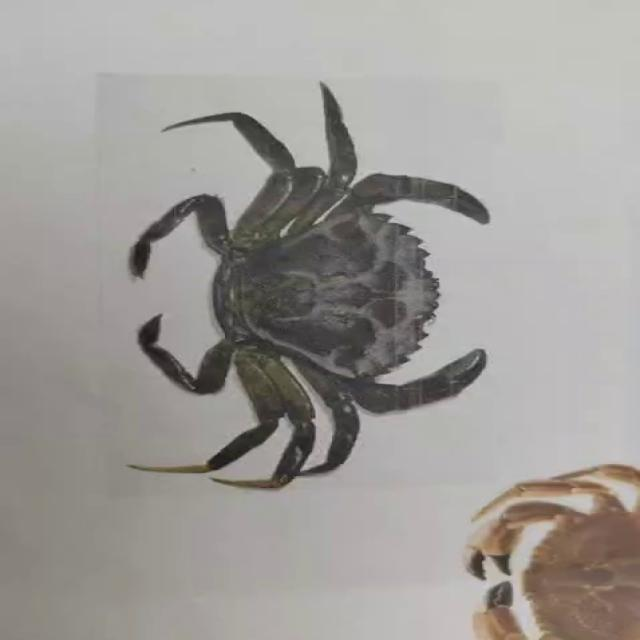egc: (129, 83, 489, 489)
